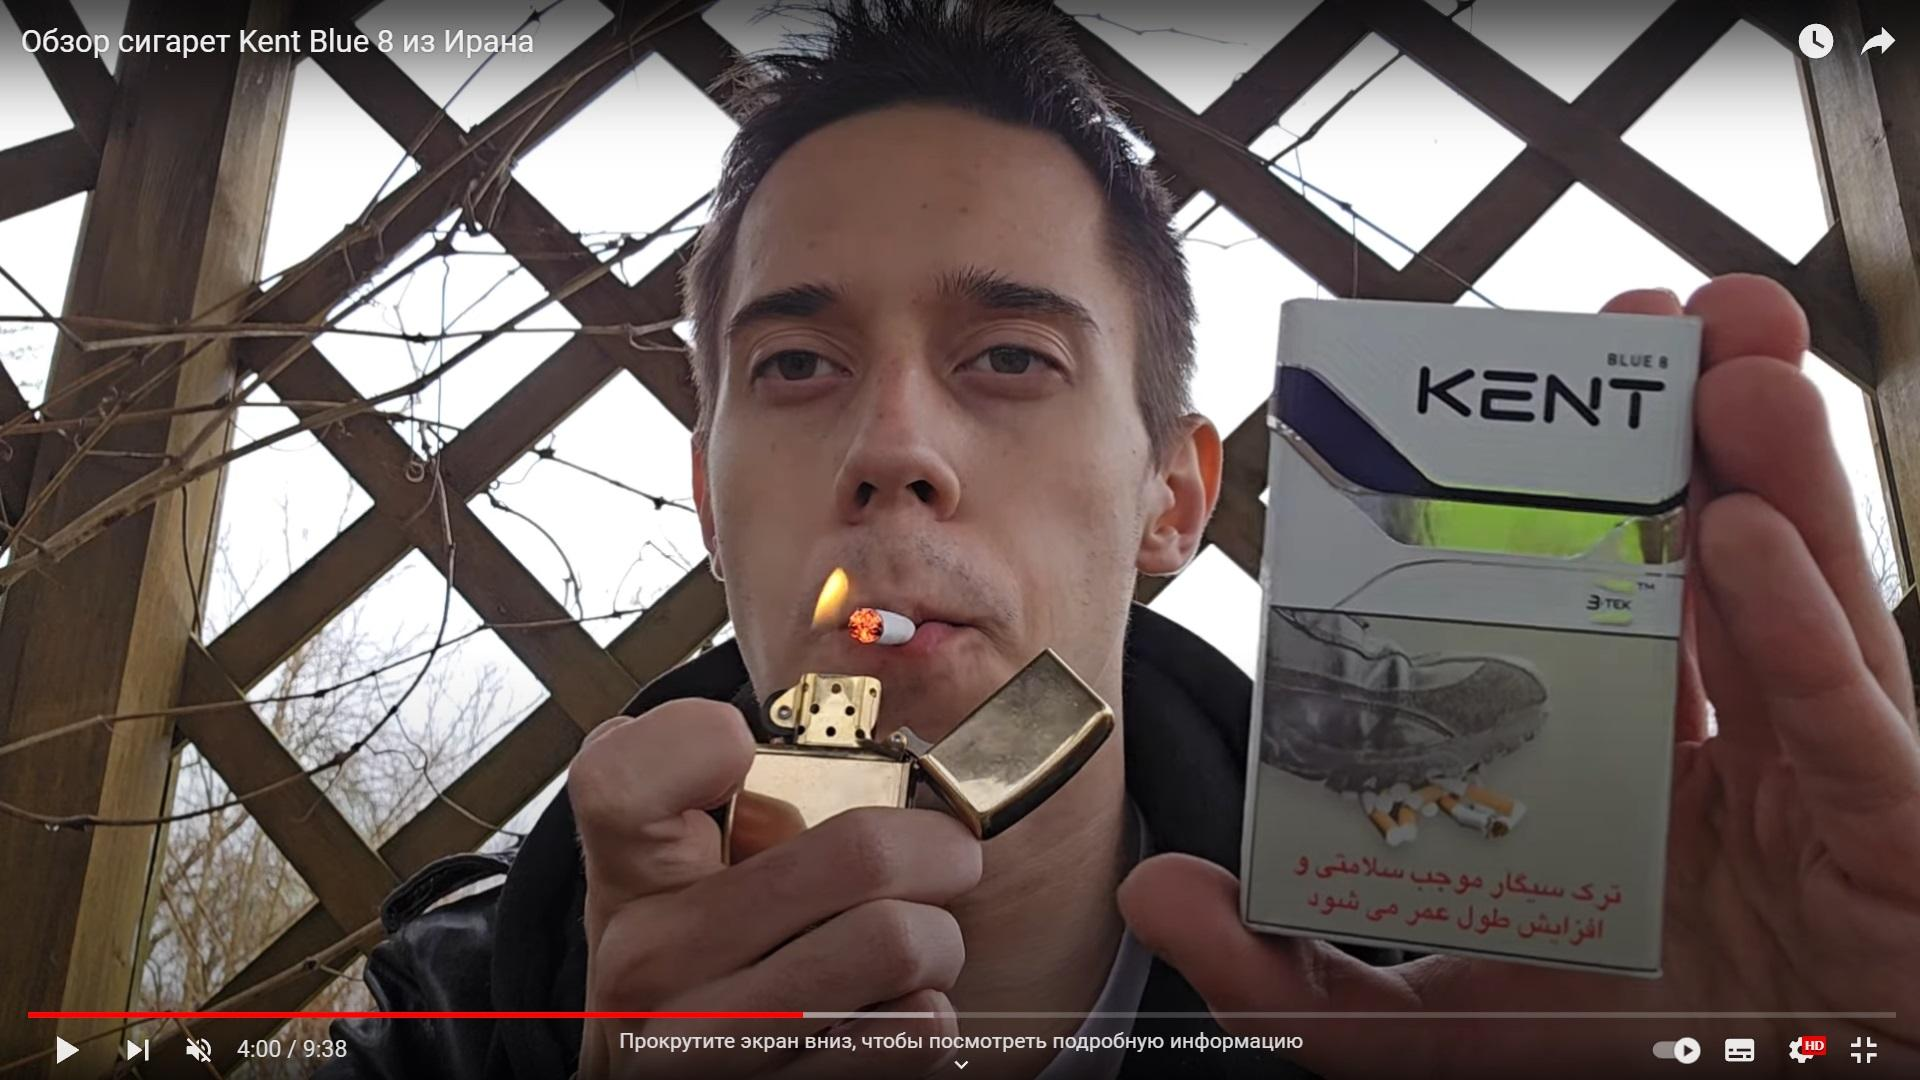cigarette: (848, 608, 915, 645)
